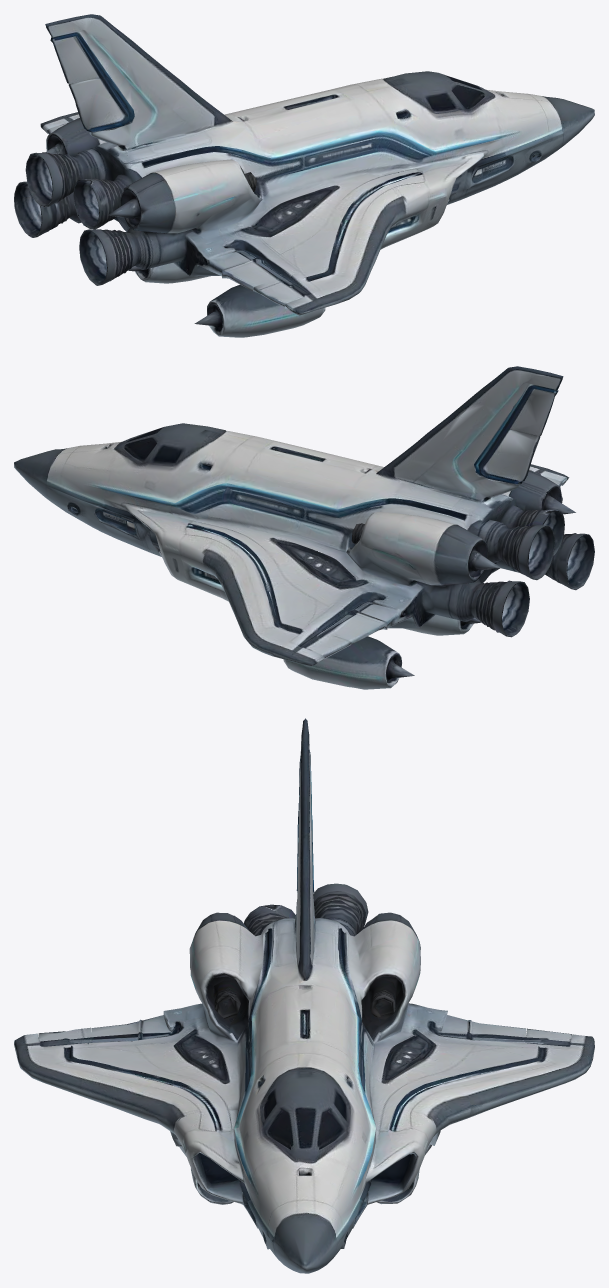
Rendered from airplane.glb.
The picture shows the model from 3 angles, top to bottom: view 1: azimuth 30°, elevation 25°; view 2: azimuth 150°, elevation 25°; view 3: azimuth 270°, elevation 25°; orthographic projection. The views are drawn at different scales.
Visible parts, largest first — view 1: tripo_node_e9f4ba34-ee92-485a-9cfe-03ed085d2f0c; view 2: tripo_node_e9f4ba34-ee92-485a-9cfe-03ed085d2f0c; view 3: tripo_node_e9f4ba34-ee92-485a-9cfe-03ed085d2f0c.
Boxes of the visible parts, x1=… form: tripo_node_e9f4ba34-ee92-485a-9cfe-03ed085d2f0c: x1=14, y1=14, x2=594, y2=337; tripo_node_e9f4ba34-ee92-485a-9cfe-03ed085d2f0c: x1=14, y1=366, x2=594, y2=689; tripo_node_e9f4ba34-ee92-485a-9cfe-03ed085d2f0c: x1=14, y1=718, x2=594, y2=1273.
Bounding box in the file's own units: 0.9827 × 0.5546 × 0.8018.
1 material, 1 textured.
